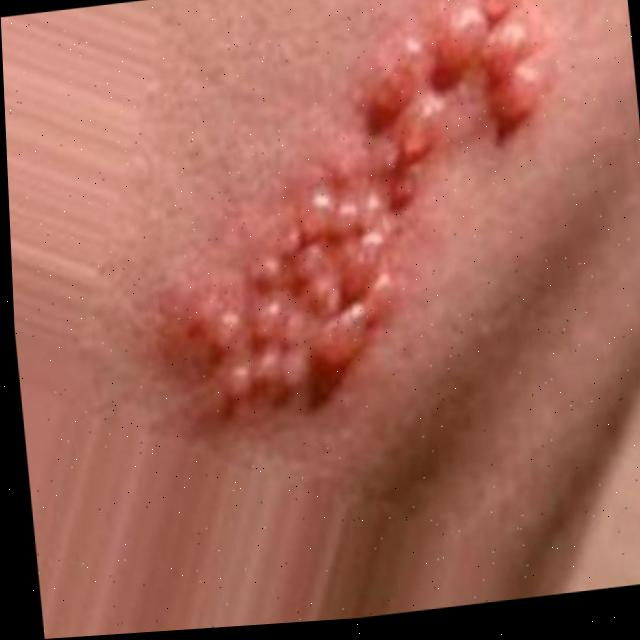Shingles: (157, 0, 564, 426)
